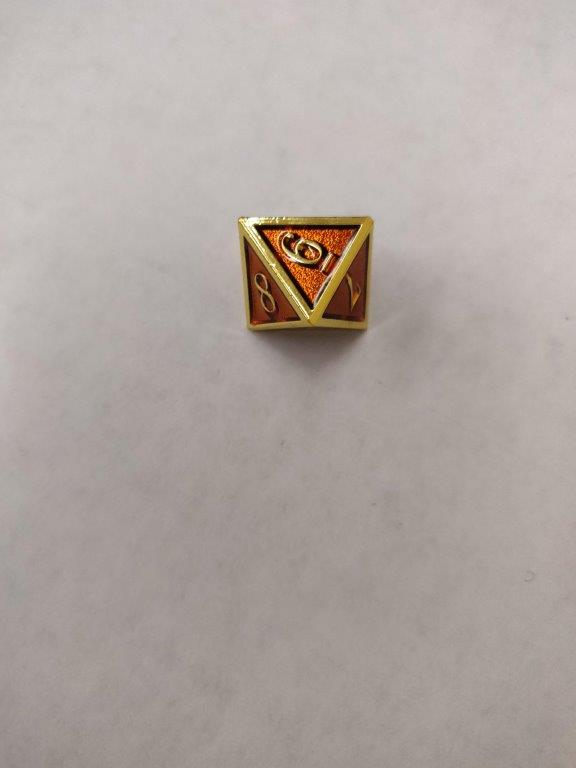d8-6: (234, 214, 375, 337)
